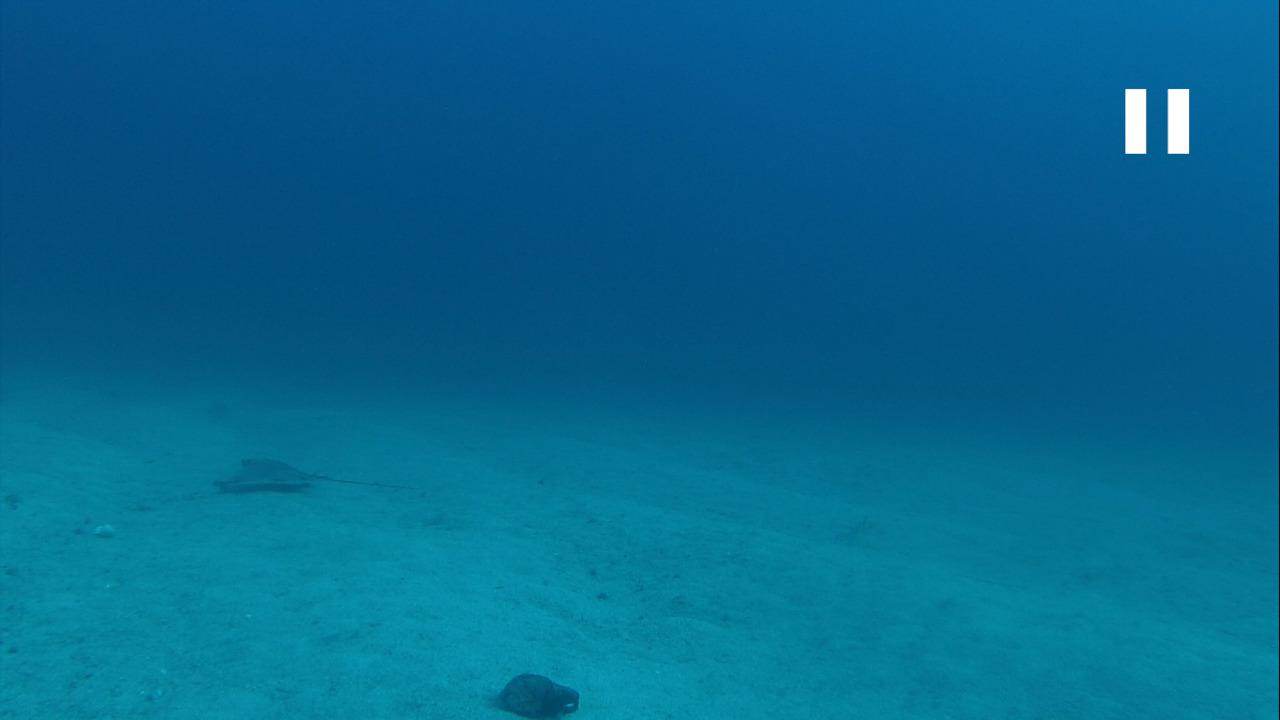myliobatis: (194, 451, 423, 509)
